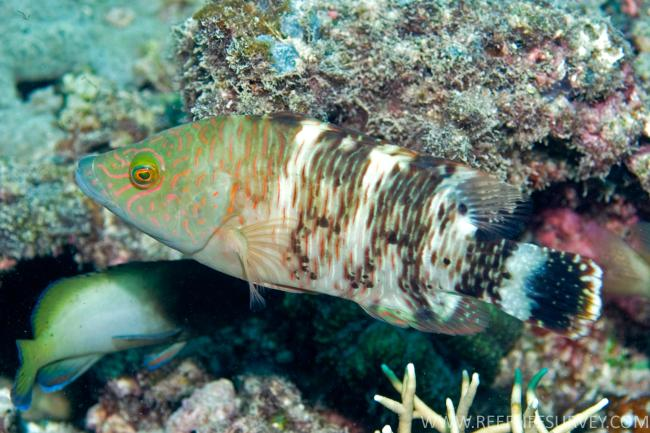fish: (74, 115, 603, 339)
